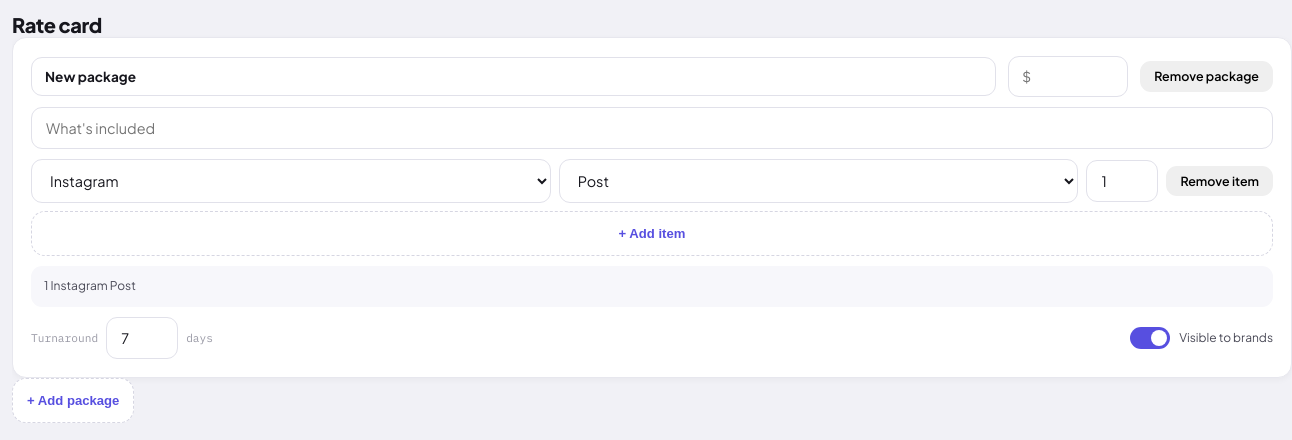
Scenario: removing the last package returns the editor to its empty state
Click the button "Remove package": (1207, 77) [1140,61,1273,92]
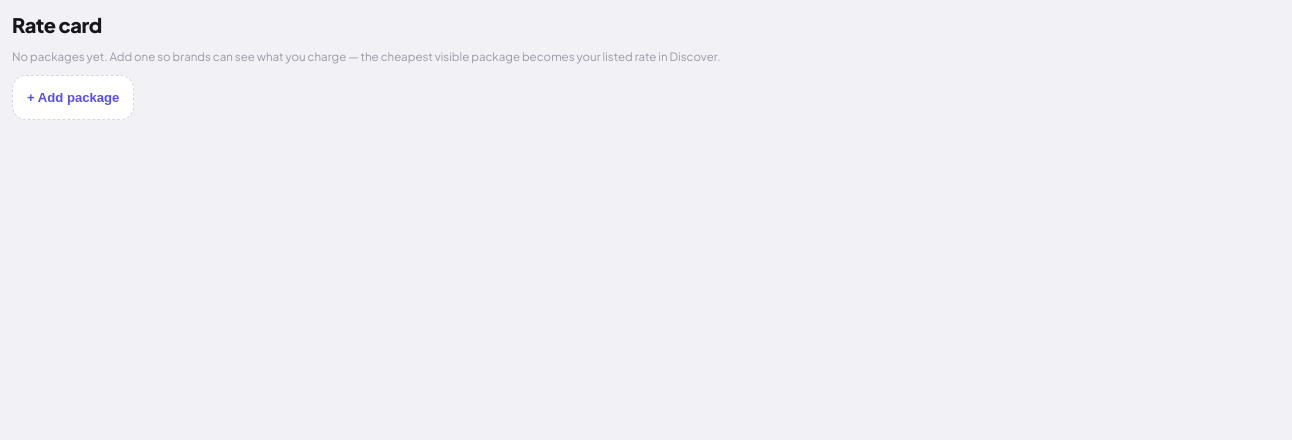
Expected: no elements with test id "rate-package" are shown
Expected: the text "No packages yet" is shown, [12,48,720,64]
